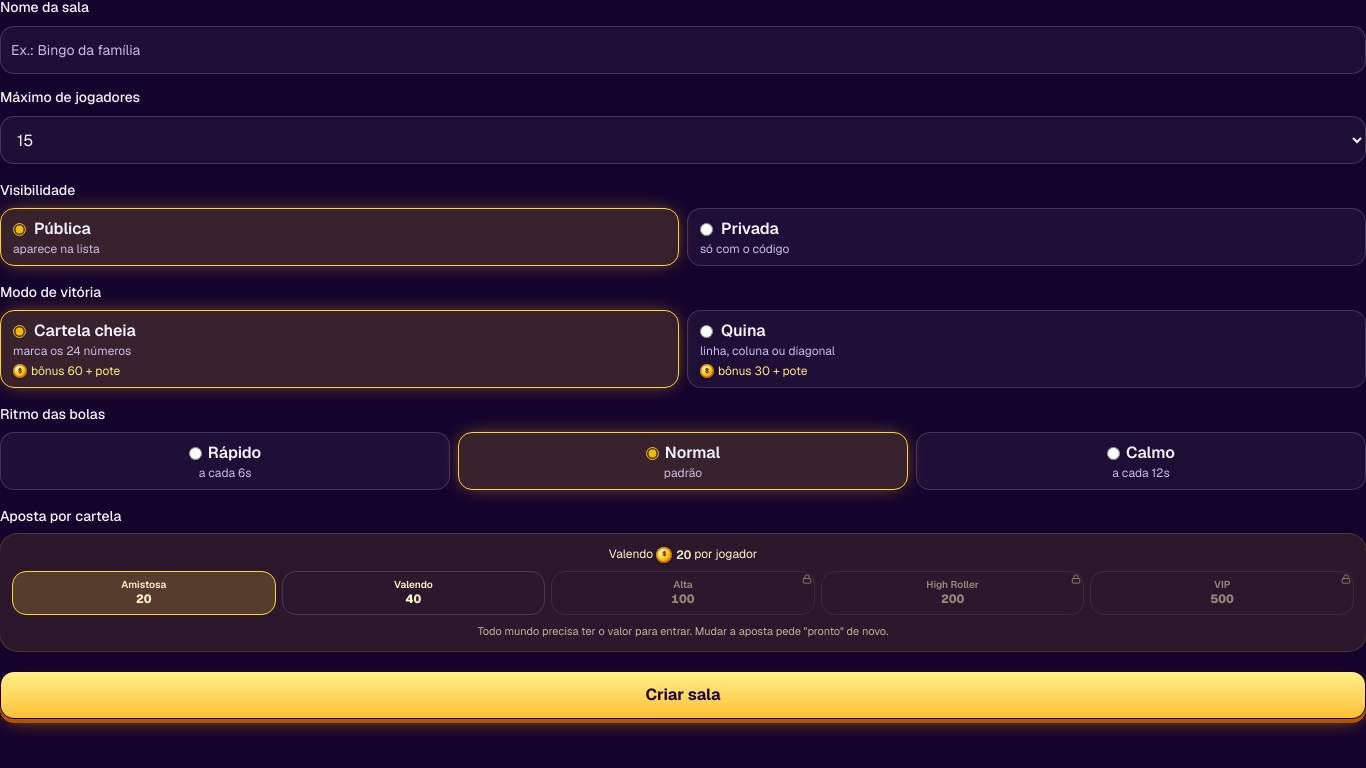
CreateRoomForm › validates the name length
Step 1. Type "ab" into the field labelled "Nome da sala" → (683, 50), box [0, 26, 1365, 74]
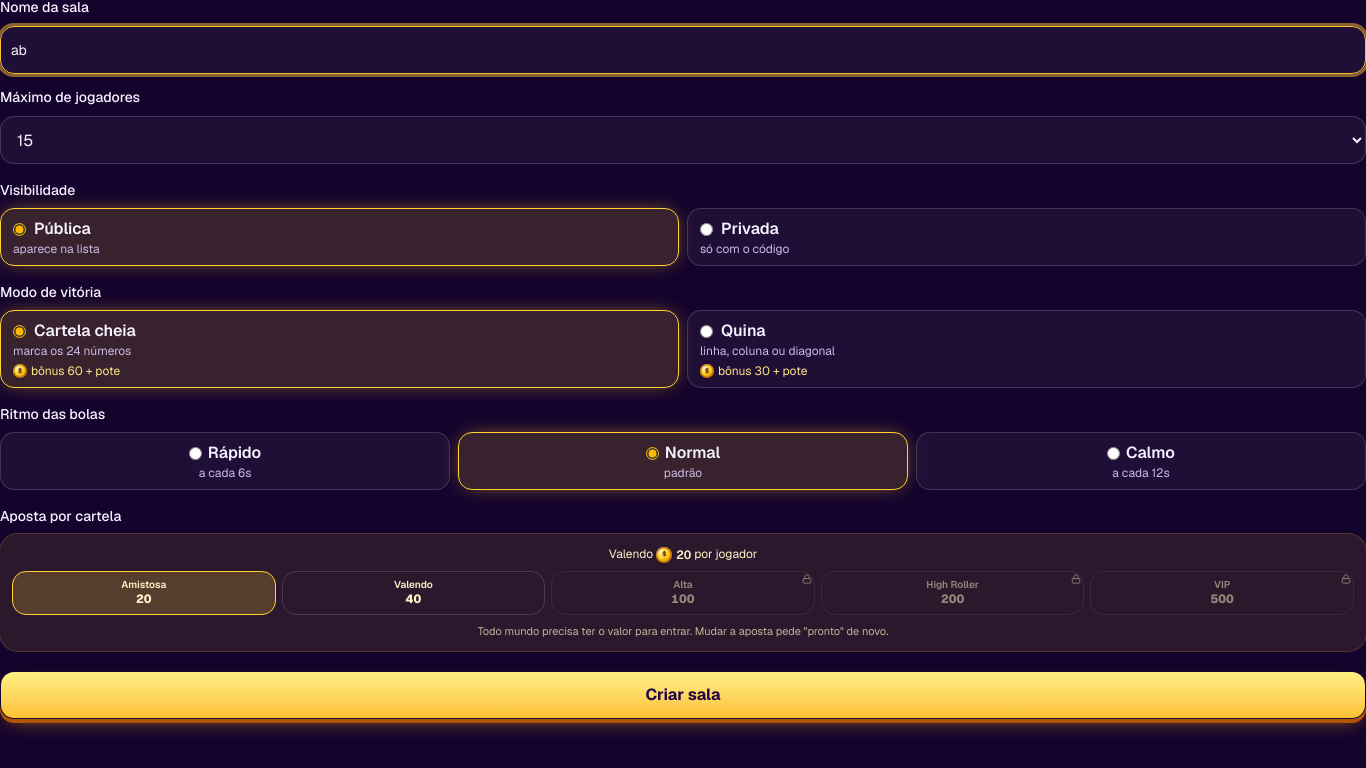
Step 2. Click the button "Criar sala" → (683, 695), box [0, 671, 1365, 719]
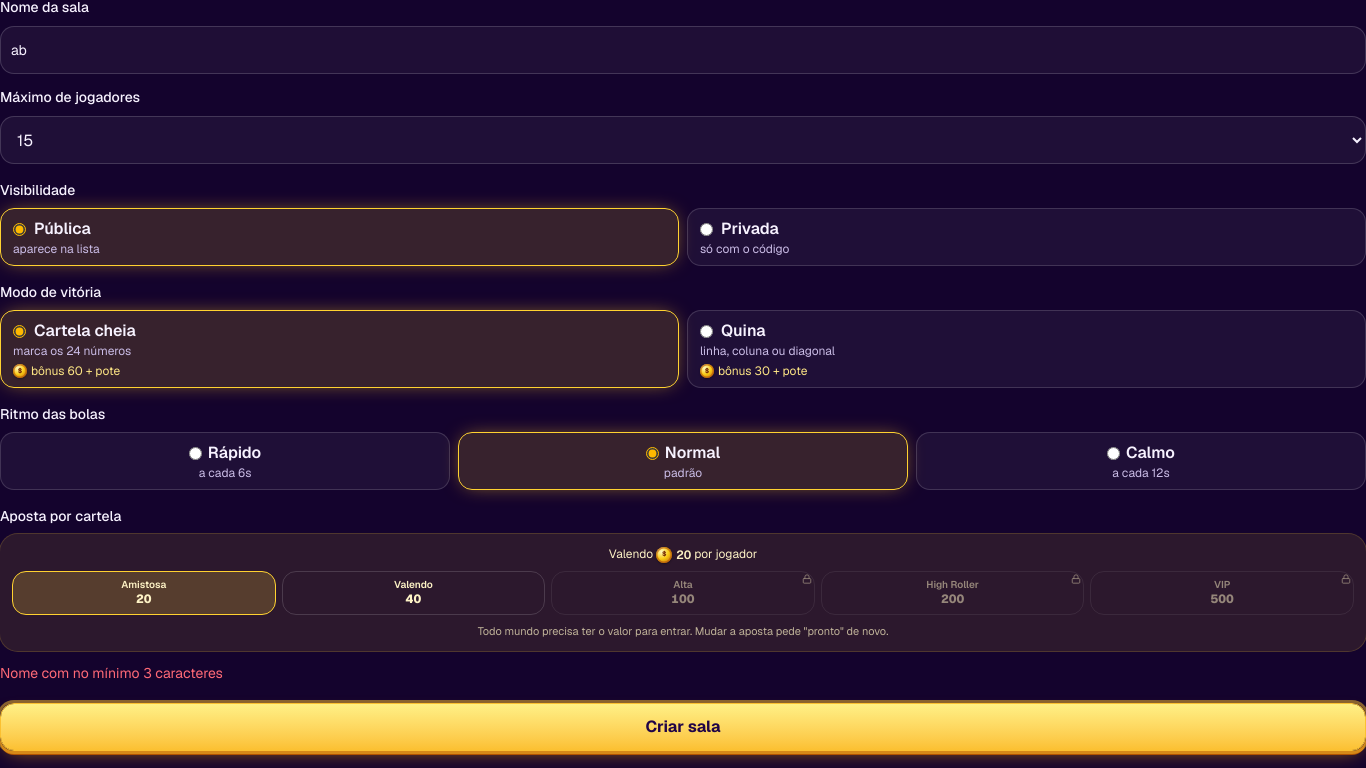
Expected: the message shows "mínimo 3", [0, 664, 223, 682]
